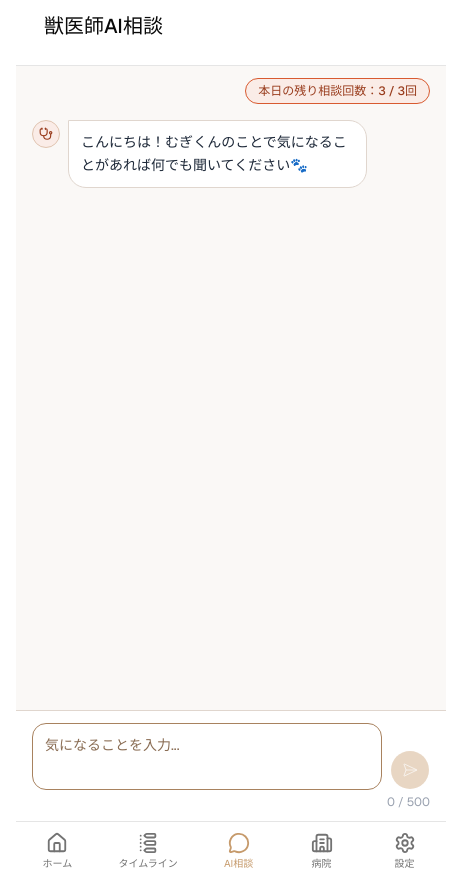
Test: AiChatPage › AiChatPage › 送信（正常系） › UT-F-406: 入力してメッセージを送信するとユーザーメッセージが追加される
expect the text "こんにちは！むぎくんのことで気になることがあれば何でも聞いてください🐾" is shown: met, box [68,120,366,188]
In the text box with placeholder "気になることを入力...": (207, 756) [32,722,382,790], type "ごはんの量は？"
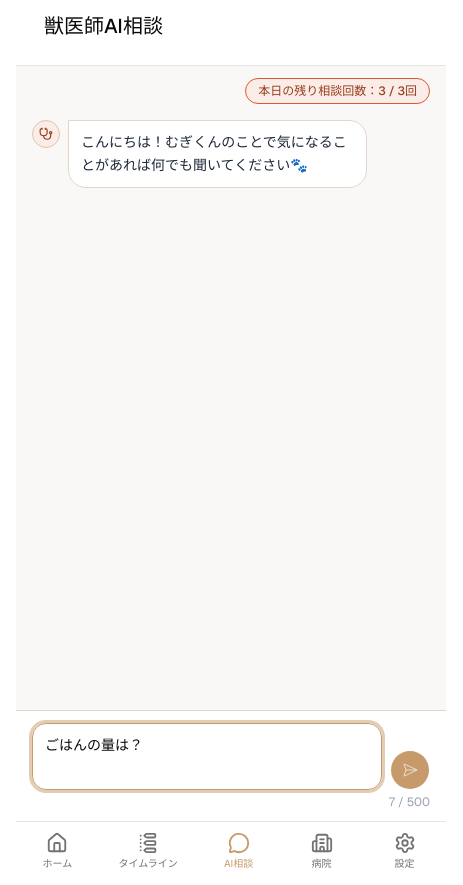
Click the button named "送信": (410, 770) [390,750,430,790]
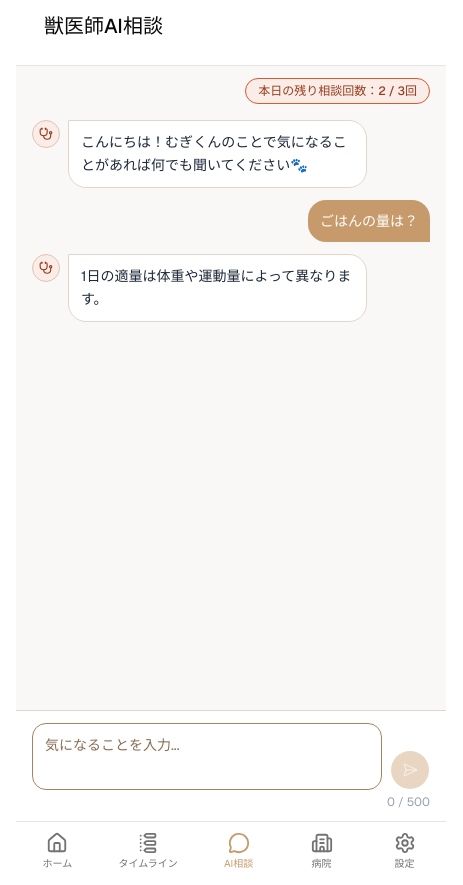
expect the text "ごはんの量は？" is shown: met, box [308,200,430,242]
